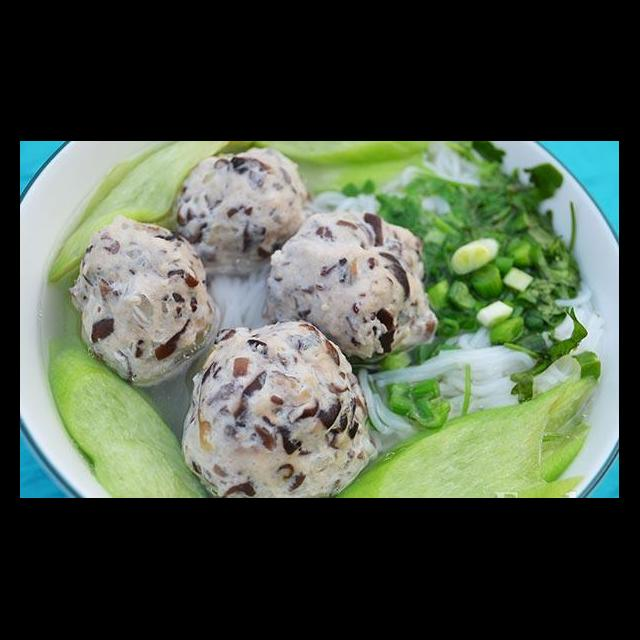bun: (362, 328, 560, 428)
vien moc: (176, 317, 384, 498), (258, 205, 444, 364), (65, 215, 226, 392), (166, 144, 314, 278)
